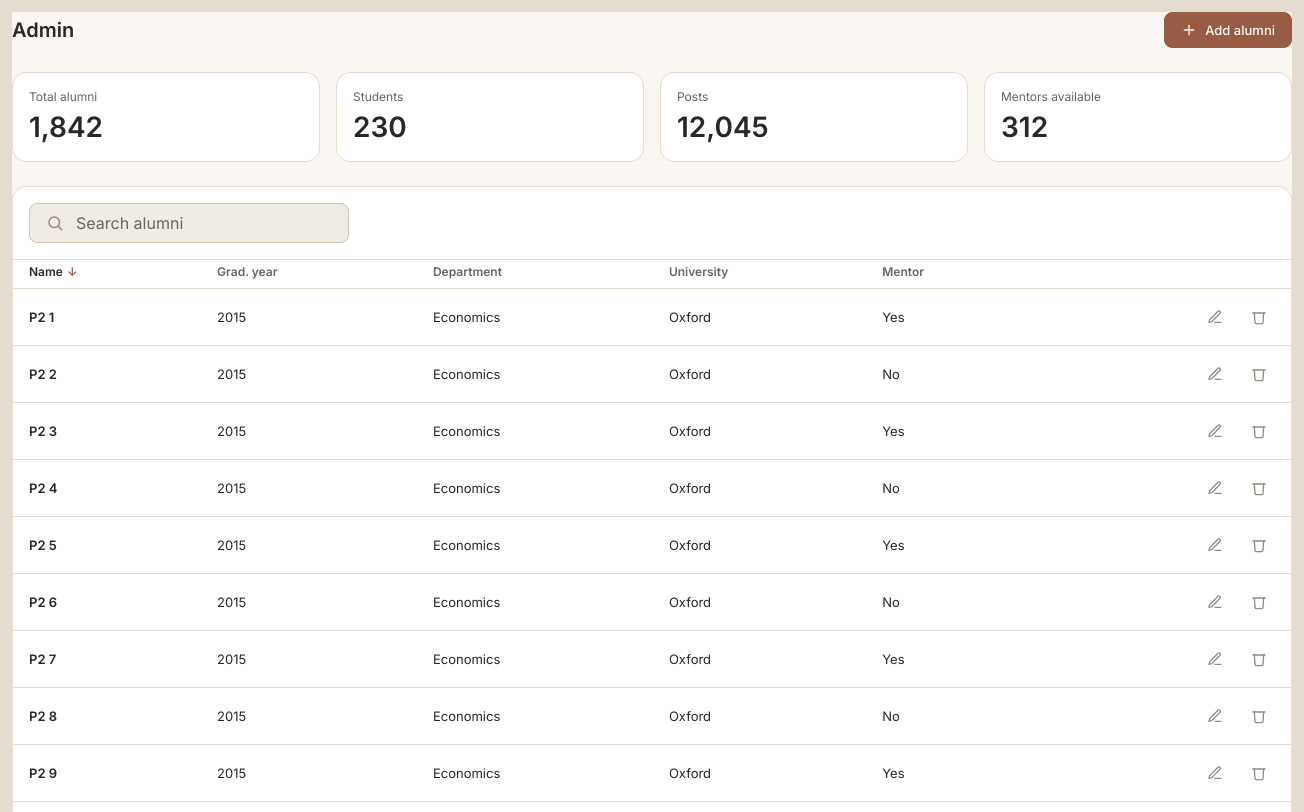
Test case: AdminPage › sorts by a header click: URL, aria-sort and request params, back to page 1
The width and height of the screenshot is (1304, 812).
Check: the column heading "P2 1" is shown, box left=13, top=288, right=201, bottom=346
Click the button "Grad. year" at (247, 272), box left=217, top=264, right=277, bottom=280
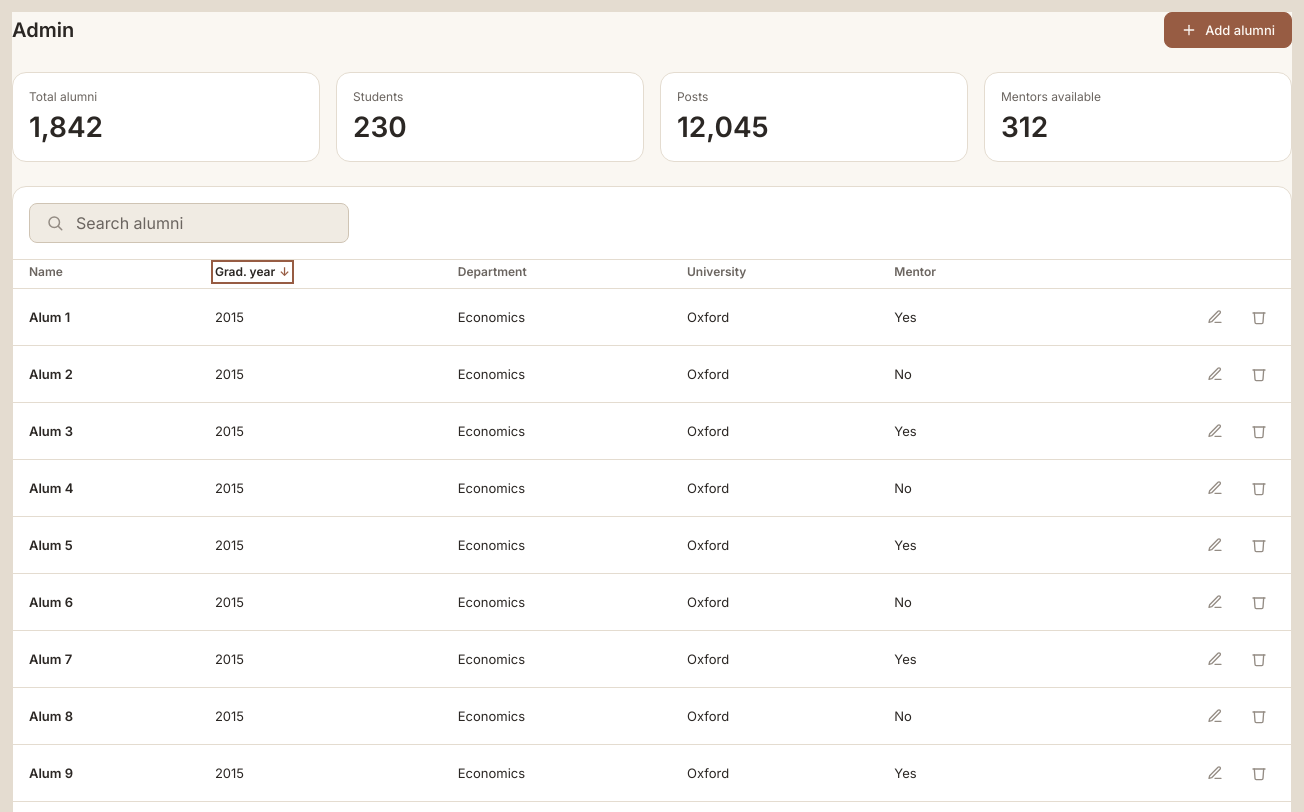
Check: the column heading "Grad. year ↓" has attribute aria-sort="ascending", box left=199, top=260, right=442, bottom=288
Check: the column heading "Name" does not have attribute aria-sort, box left=13, top=260, right=199, bottom=288
Click the button "Grad. year ↓" at (252, 272), box left=215, top=264, right=290, bottom=280
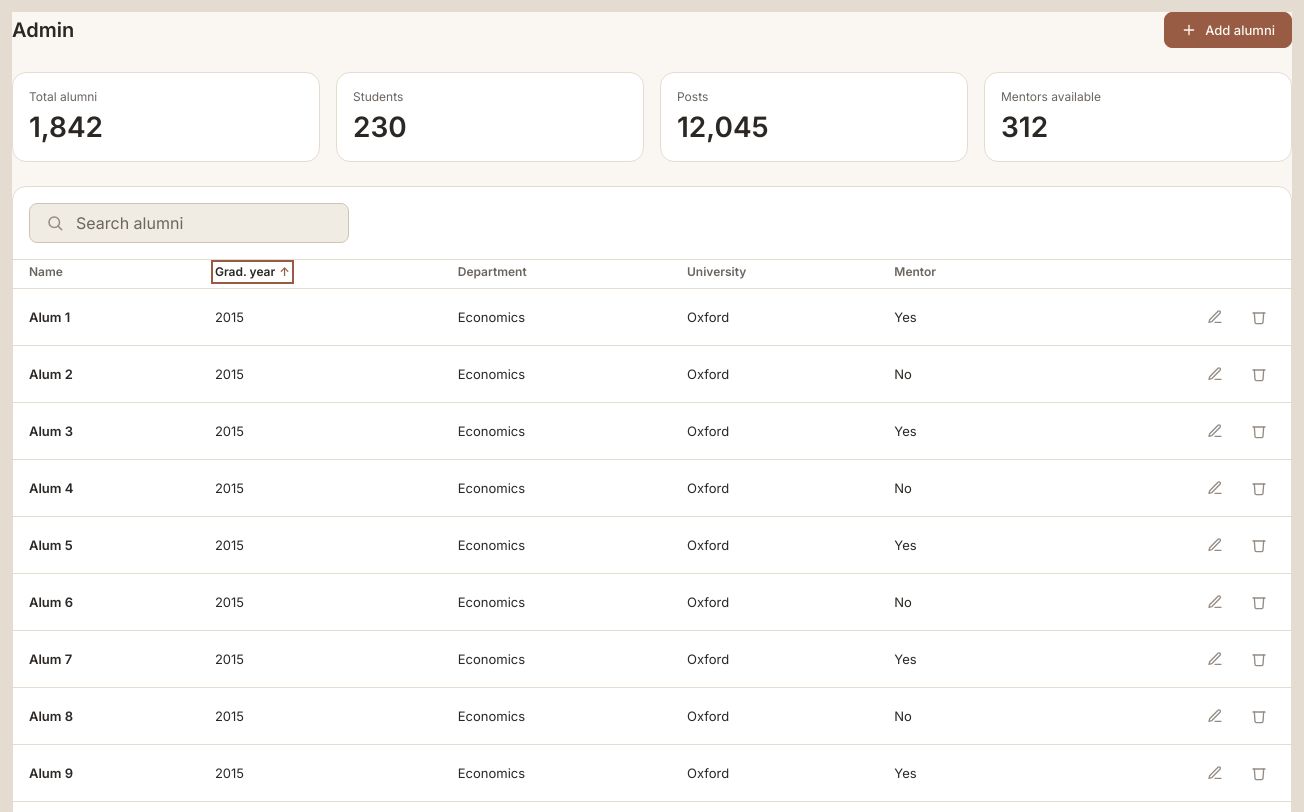
Check: the column heading "Grad. year ↑" is shown, box left=199, top=260, right=442, bottom=288
